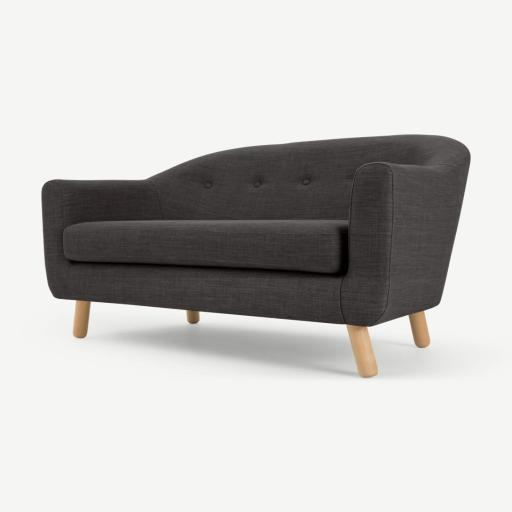back_cushion: (149, 135, 469, 219)
base: (57, 263, 344, 323)
left_arm: (341, 162, 467, 325)
legs: (347, 325, 377, 377), (409, 312, 429, 347), (73, 301, 90, 338), (187, 310, 199, 323)
one-seater: (42, 135, 470, 376)
right_arm: (42, 180, 162, 298)
seat_cushion: (64, 220, 348, 274)
